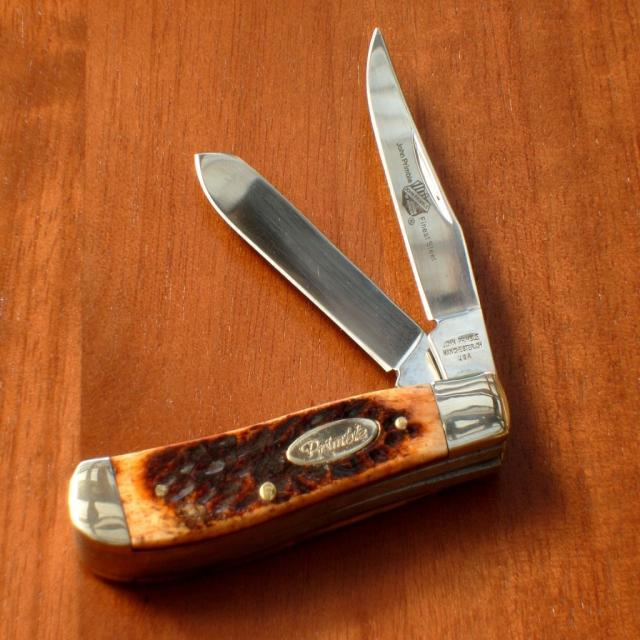Knife: (69, 30, 509, 581)
